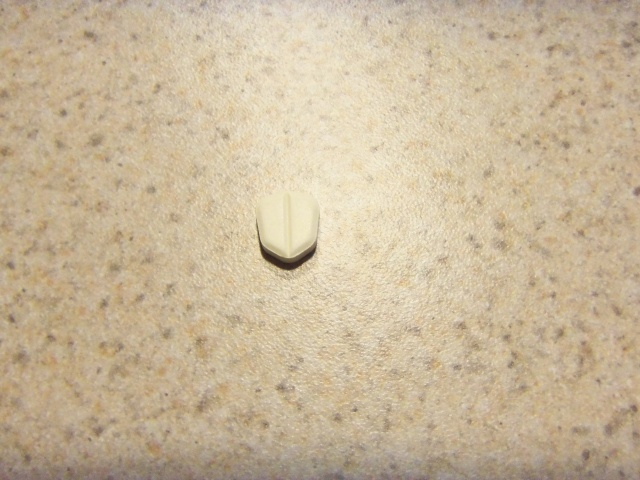|: (274, 189, 299, 263)
